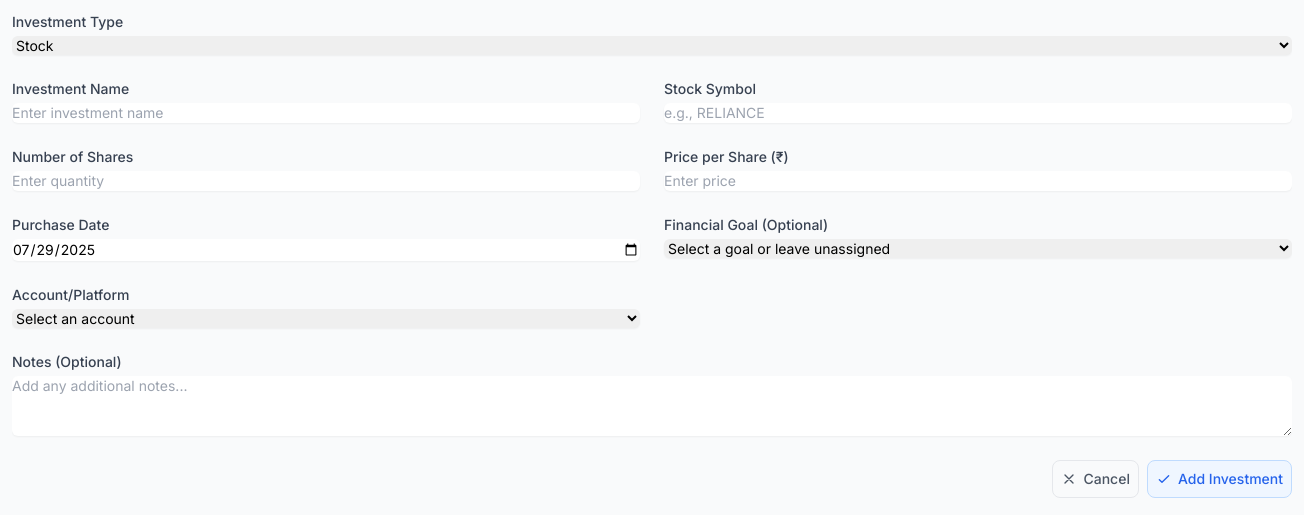
Test: InvestmentForm › Dynamic Field Rendering › shows total value field for GOLD type
Select "Gold" in the dropdown labelled "Investment Type" at [652, 46], box [12,36,1292,55]
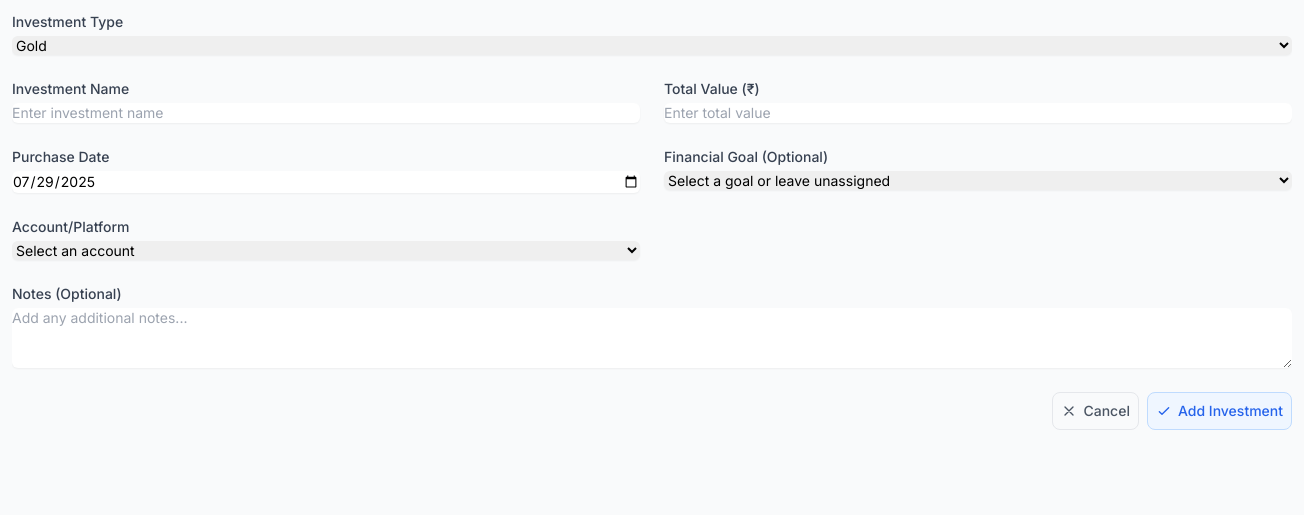
Expected: the number field labelled "Total Value (₹)" is shown, [664,103,1292,123]
Expected: the label labelled "Symbol" is gone
